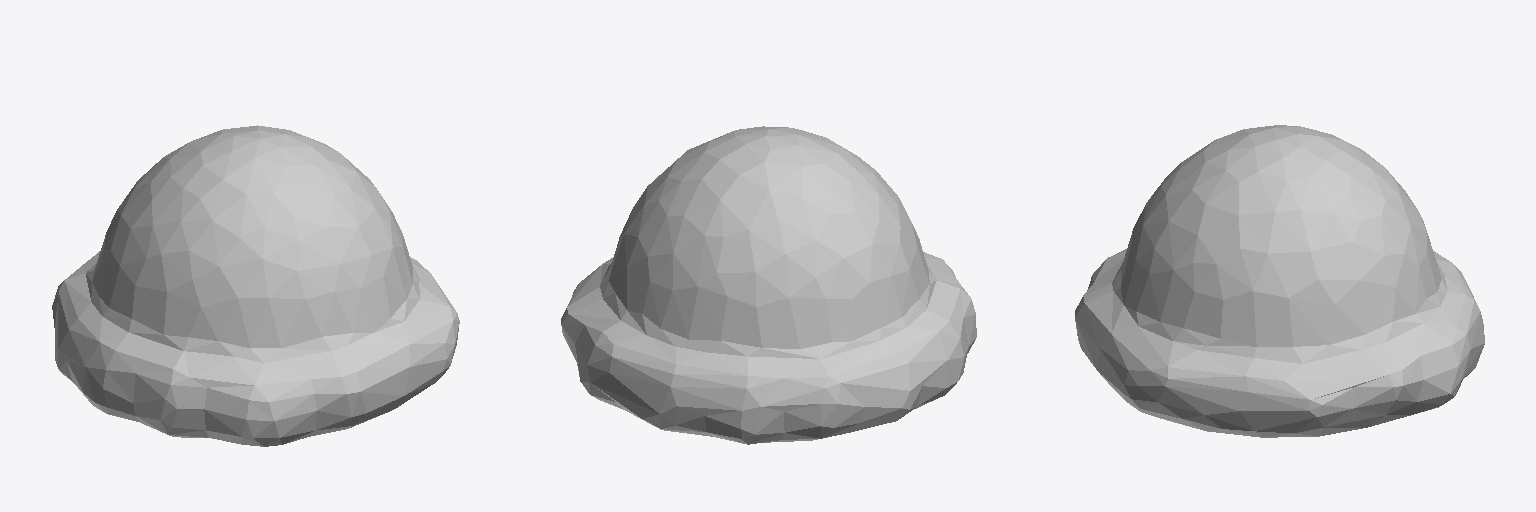
The model's file is mintice.obj.
3 views of the same model, side by side, from view 1: azimuth 30°, elevation 25°; view 2: azimuth 150°, elevation 25°; view 3: azimuth 270°, elevation 25° (orthographic).
Parts seen in each view (by area): view 1: 球; view 2: 球; view 3: 球.
Part boxes in pixels (x1,y1,x2,y2): 球: (52, 125, 459, 446); 球: (561, 126, 976, 444); 球: (1075, 125, 1484, 437).
Bounding box in the file's own units: 2.55 × 1.64 × 2.58.